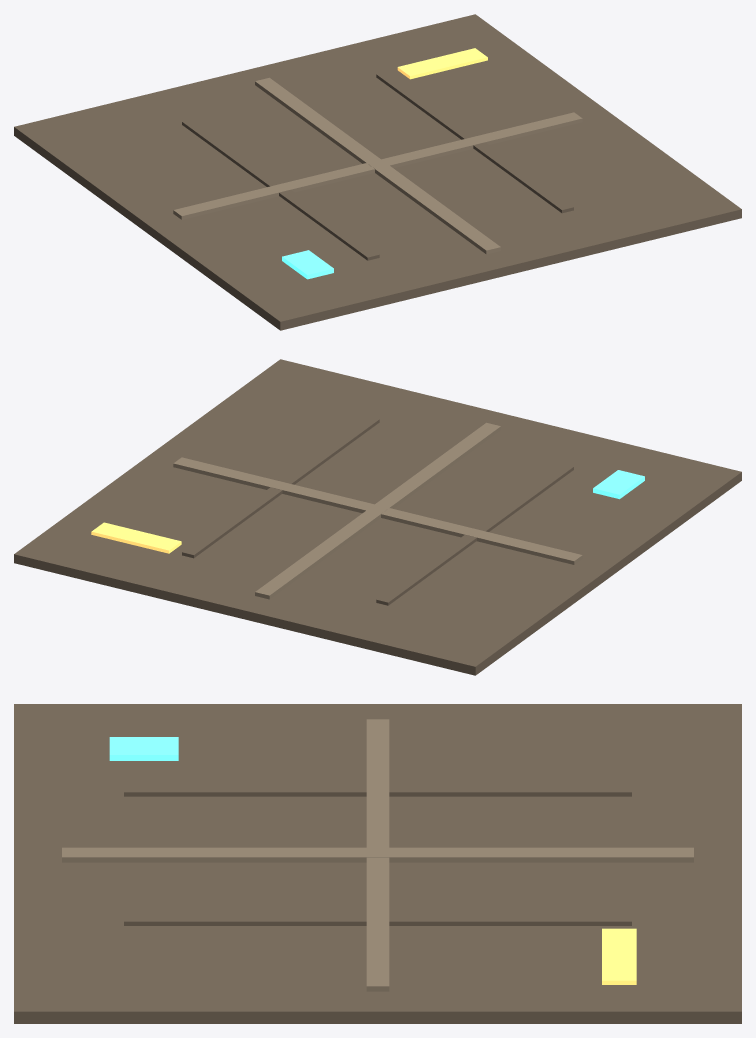
The model's file is refinery-floor-service-grate-lod1.glb.
3 views of the same model, one above another, from view 1: azimuth 30°, elevation 25°; view 2: azimuth 150°, elevation 25°; view 3: azimuth 270°, elevation 25° (orthographic). The views are drawn at different scales.
Parts seen in each view (by area): view 1: refinery-floor-service-grate, refinery-floor-service-grate-frame-x, refinery-floor-service-grate-frame-z, refinery-floor-service-grate-slat-c, refinery-floor-service-grate-slat-a, refinery-floor-service-grate-hazard, refinery-floor-service-grate-service-light; view 2: refinery-floor-service-grate, refinery-floor-service-grate-frame-x, refinery-floor-service-grate-frame-z, refinery-floor-service-grate-slat-c, refinery-floor-service-grate-slat-a, refinery-floor-service-grate-hazard, refinery-floor-service-grate-service-light; view 3: refinery-floor-service-grate, refinery-floor-service-grate-frame-z, refinery-floor-service-grate-frame-x, refinery-floor-service-grate-slat-a, refinery-floor-service-grate-slat-c, refinery-floor-service-grate-hazard, refinery-floor-service-grate-service-light.
Part boxes in pixels (x1=…): refinery-floor-service-grate: x1=14, y1=14, x2=741, y2=330; refinery-floor-service-grate-frame-x: x1=173, y1=112, x2=582, y2=219; refinery-floor-service-grate-frame-z: x1=255, y1=77, x2=500, y2=254; refinery-floor-service-grate-slat-c: x1=376, y1=71, x2=573, y2=213; refinery-floor-service-grate-slat-a: x1=182, y1=118, x2=379, y2=260; refinery-floor-service-grate-hazard: x1=397, y1=48, x2=487, y2=79; refinery-floor-service-grate-service-light: x1=282, y1=250, x2=333, y2=279; refinery-floor-service-grate: x1=14, y1=359, x2=741, y2=675; refinery-floor-service-grate-frame-x: x1=173, y1=457, x2=582, y2=564; refinery-floor-service-grate-frame-z: x1=255, y1=422, x2=500, y2=599; refinery-floor-service-grate-slat-c: x1=182, y1=416, x2=379, y2=558; refinery-floor-service-grate-slat-a: x1=376, y1=463, x2=573, y2=605; refinery-floor-service-grate-hazard: x1=91, y1=522, x2=181, y2=553; refinery-floor-service-grate-service-light: x1=593, y1=470, x2=644, y2=499; refinery-floor-service-grate: x1=14, y1=704, x2=741, y2=1023; refinery-floor-service-grate-frame-z: x1=62, y1=847, x2=693, y2=862; refinery-floor-service-grate-frame-x: x1=366, y1=719, x2=389, y2=991; refinery-floor-service-grate-slat-a: x1=124, y1=784, x2=631, y2=796; refinery-floor-service-grate-slat-c: x1=124, y1=913, x2=631, y2=925; refinery-floor-service-grate-hazard: x1=602, y1=928, x2=636, y2=984; refinery-floor-service-grate-service-light: x1=109, y1=737, x2=178, y2=760.
Size of the model in its own units: 3.8 by 0.1175 by 3.8.
